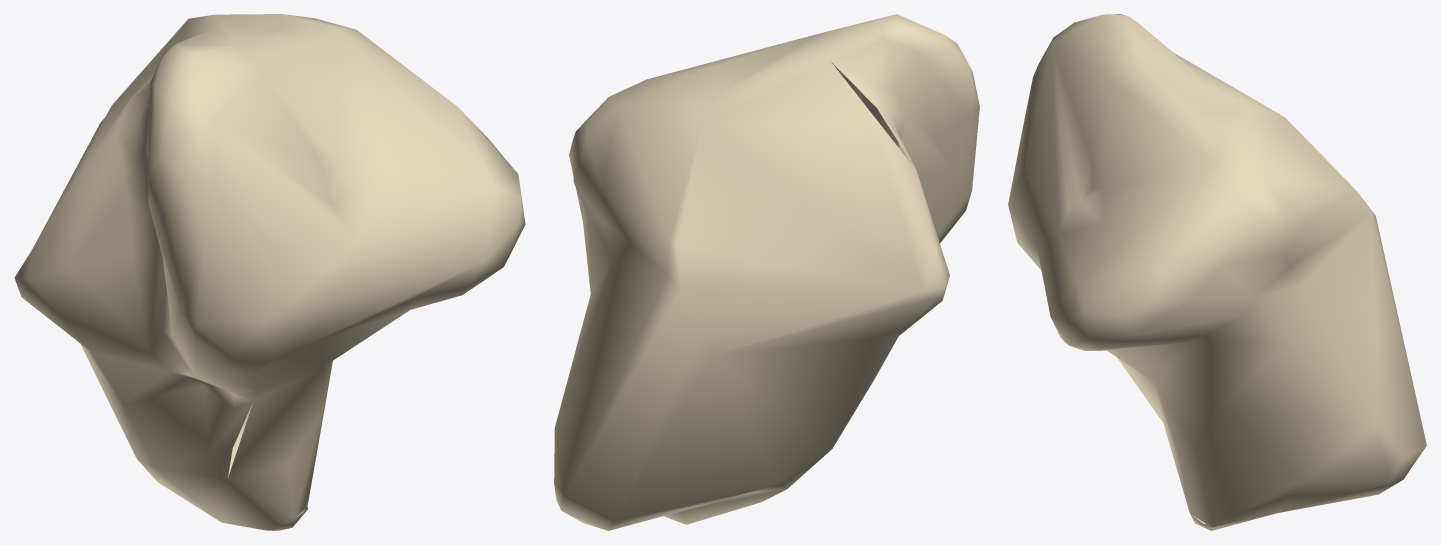
File: esqueleto-trapezium-bone-l.glb
3 views of the same model, side by side, from view 1: azimuth 30°, elevation 25°; view 2: azimuth 150°, elevation 25°; view 3: azimuth 270°, elevation 25° (orthographic). The views are drawn at different scales.
Visible parts, largest first — view 1: Trapezium bone.l; view 2: Trapezium bone.l; view 3: Trapezium bone.l.
Part boxes in pixels (x1,y1,x2,y2): Trapezium bone.l: (14, 14, 525, 530); Trapezium bone.l: (554, 14, 979, 530); Trapezium bone.l: (1008, 14, 1426, 530).
Bounding box in the file's own units: 0.0177 × 0.0208 × 0.0175.
